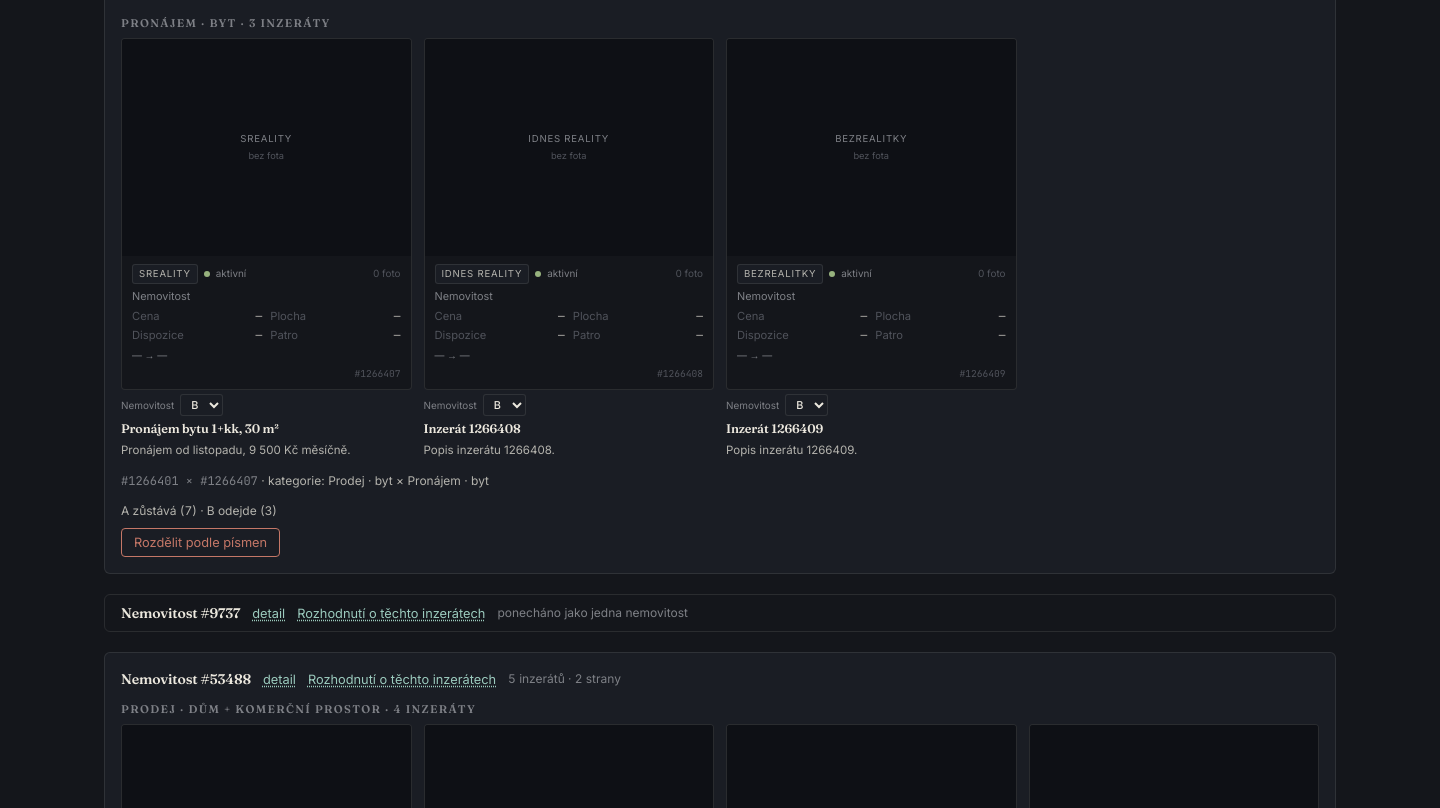
Scenario: <AutodedupCategorySplits> the split, on the property page › one letter for every ad leaves nothing to split, and says so
This screenshot has width=1440, height=808.
(page scrolled)
Select "A" in the 1st dropdown labelled "Nemovitost" at (202, 405), box [180,394,223,416]
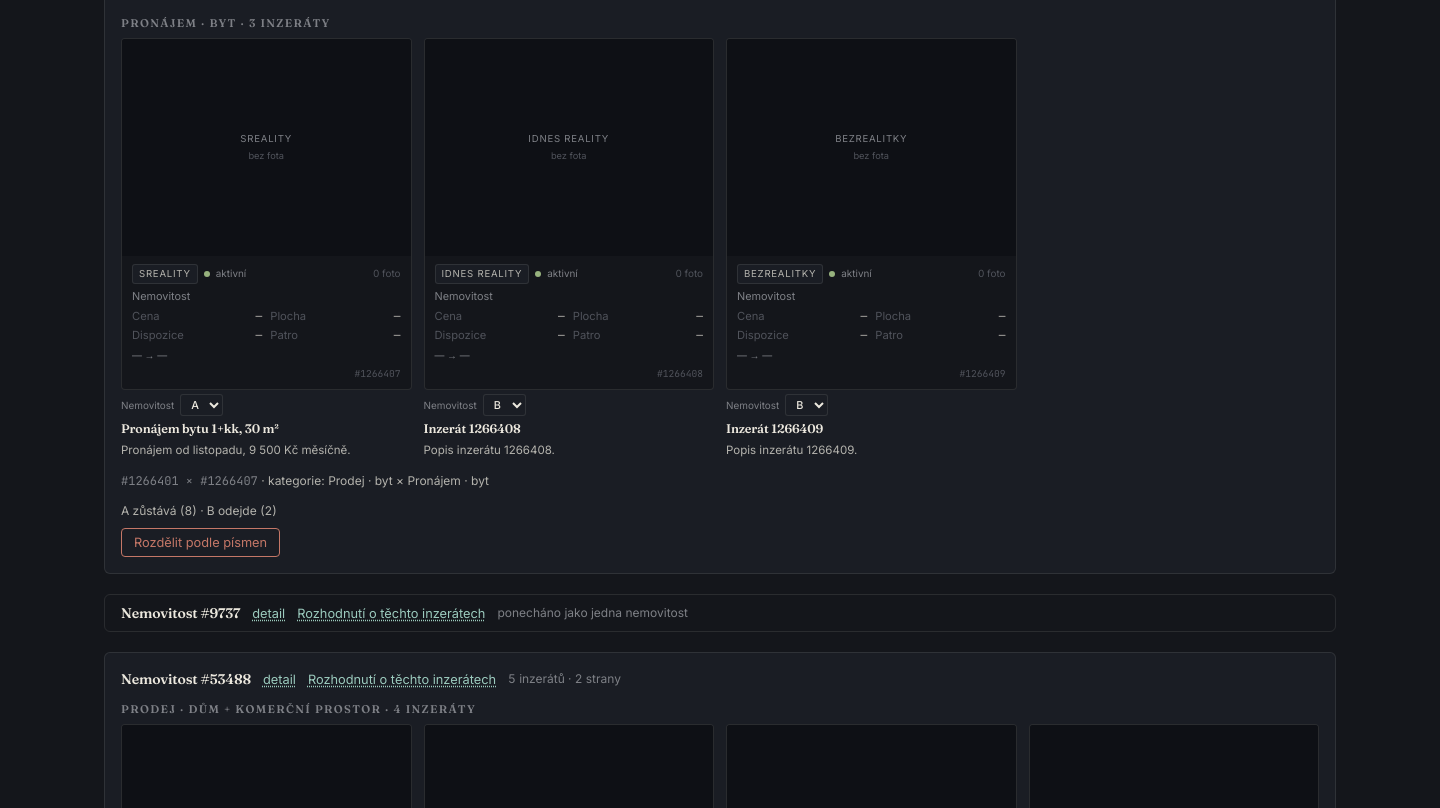
Select "A" in the 2nd dropdown labelled "Nemovitost" at (504, 405), box [483,394,526,416]
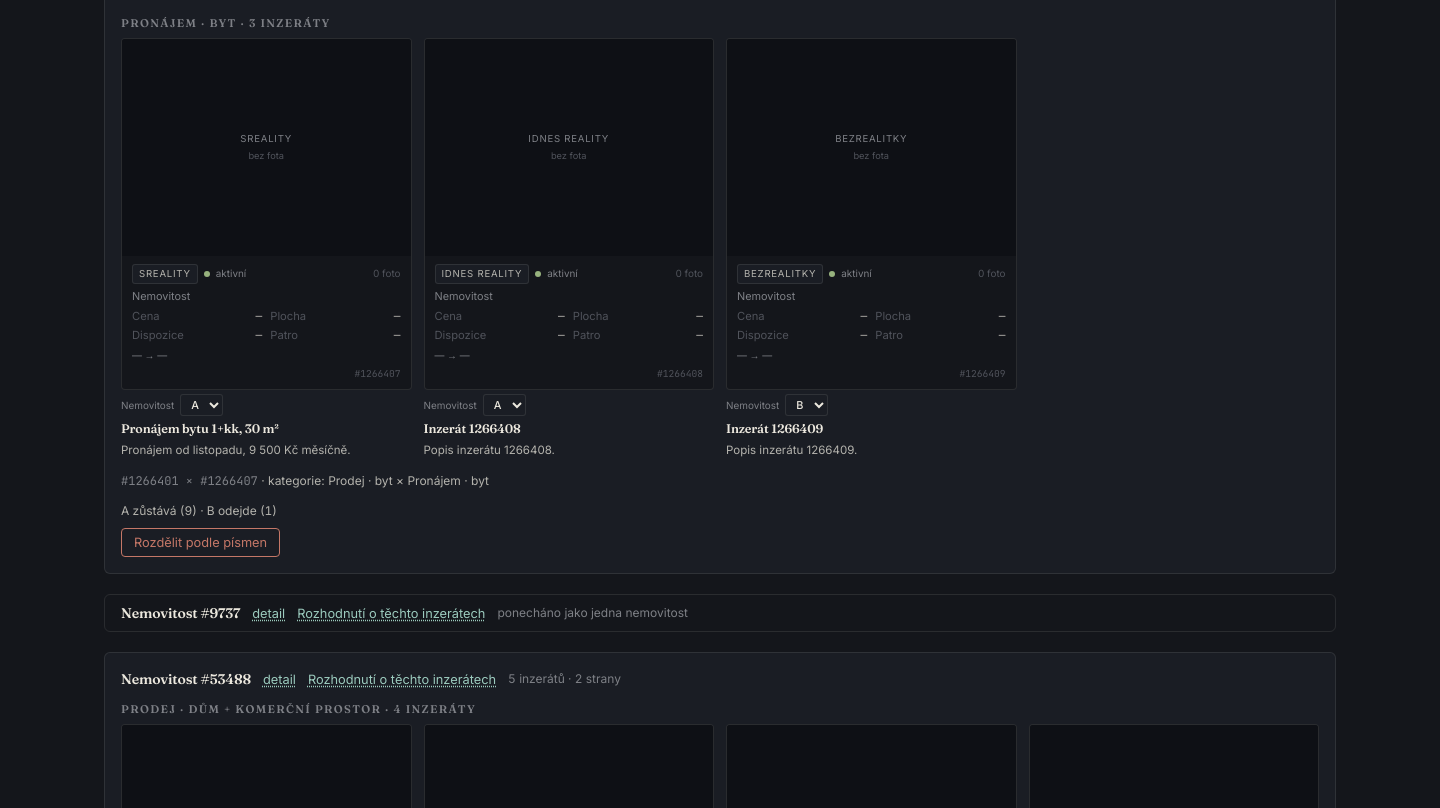
Select "A" in the 3rd dropdown labelled "Nemovitost" at (807, 405), box [785,394,828,416]
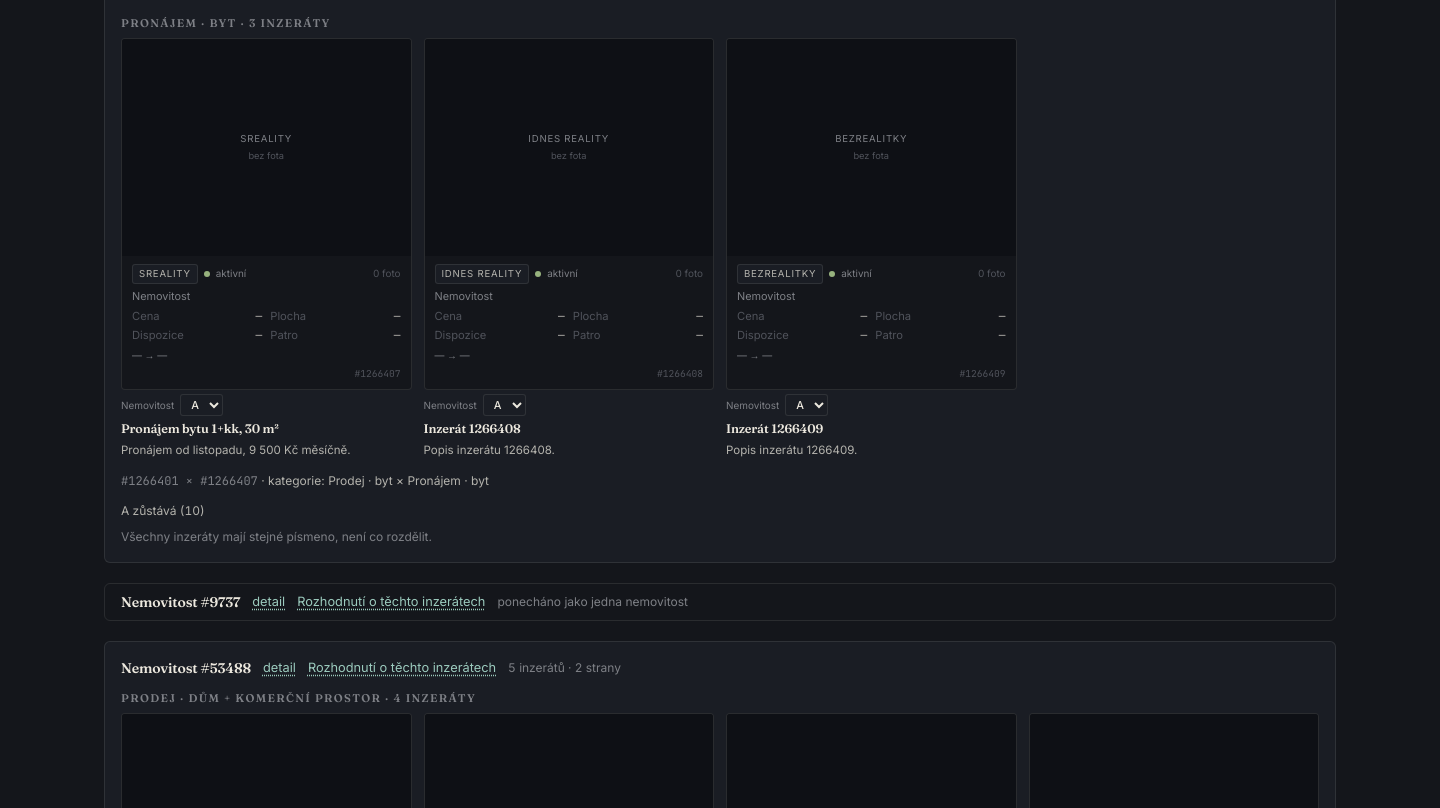
Expected: the link "Rozdělit podle písmen" is not shown
Result: the text "A zůstává (10)" is shown at [121,503,205,518]
Result: the text "Všechny inzeráty mají stejné písmeno, není co rozdělit." is shown at [121,528,432,546]
